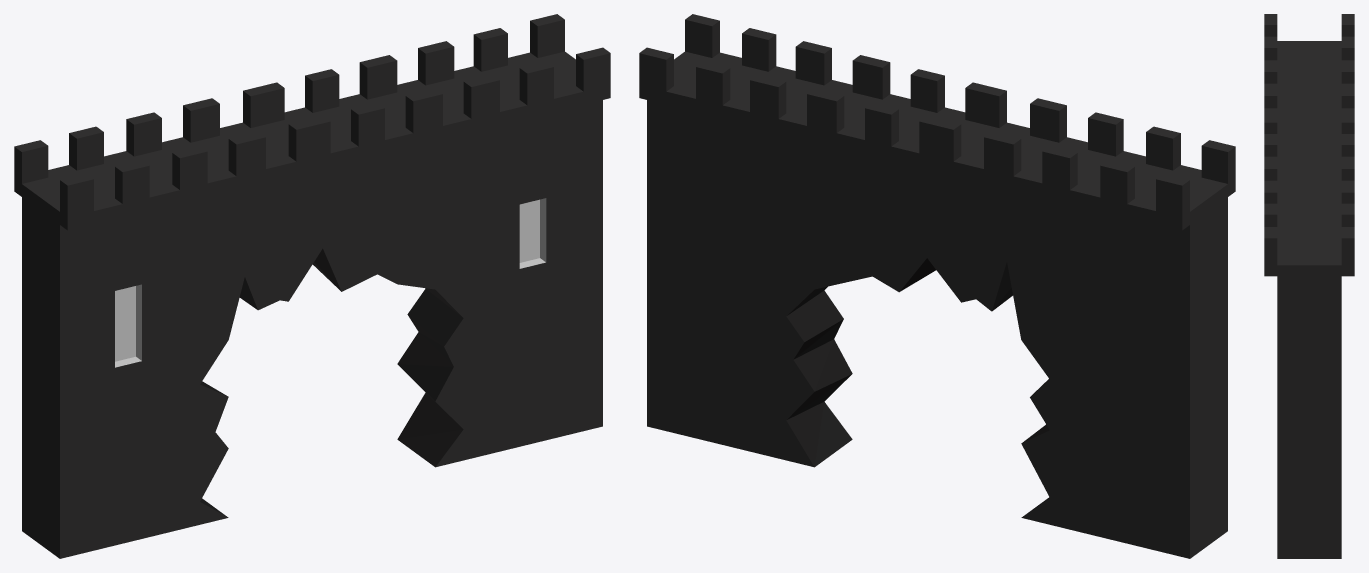
The model's file is castle_wall_with_hole.fbx.
3 views of the same model, side by side, from view 1: azimuth 30°, elevation 25°; view 2: azimuth 150°, elevation 25°; view 3: azimuth 270°, elevation 25° (orthographic). The views are drawn at different scales.
Visible parts, largest first — view 1: castle_wall_with_hole; view 2: castle_wall_with_hole; view 3: castle_wall_with_hole.
Boxes of the visible parts, <box> form: castle_wall_with_hole: <box>14,14,610,558</box>; castle_wall_with_hole: <box>639,14,1235,558</box>; castle_wall_with_hole: <box>1264,14,1354,558</box>.
Bounding box in the file's own units: 2772 × 1848 × 473.
1 material, 1 textured.
